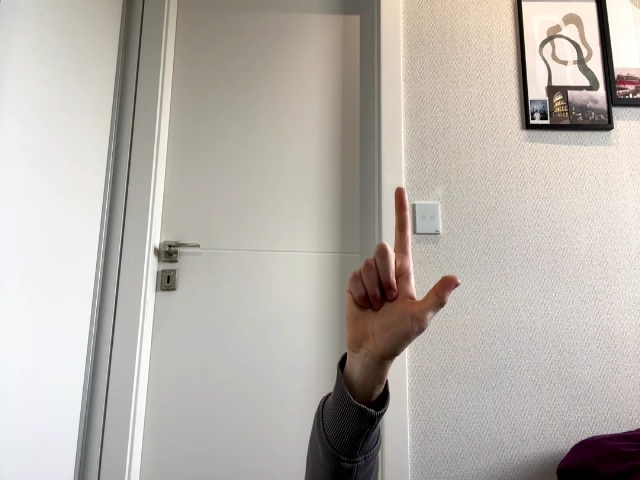L: (346, 188, 461, 377)
